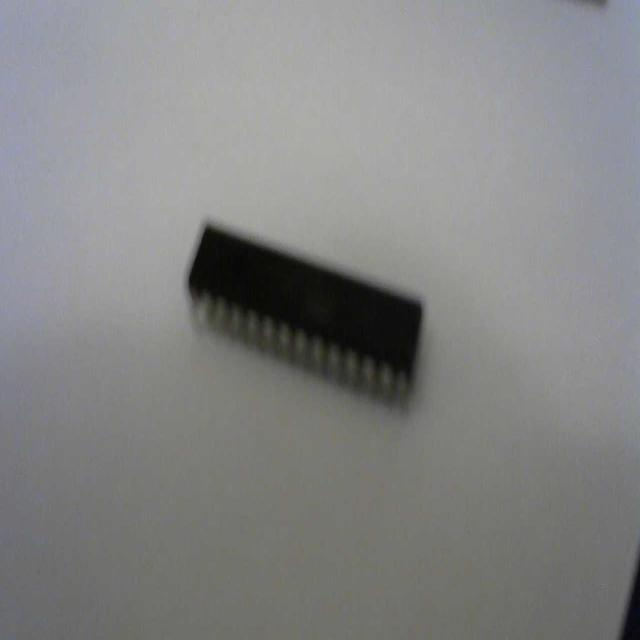atmega: (184, 215, 426, 414)
